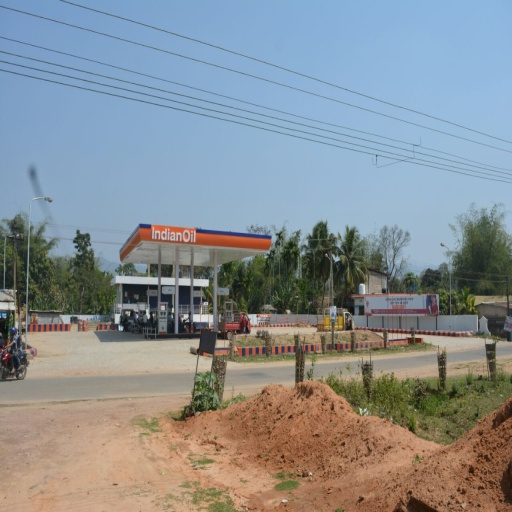roof: (117, 224, 273, 273)
